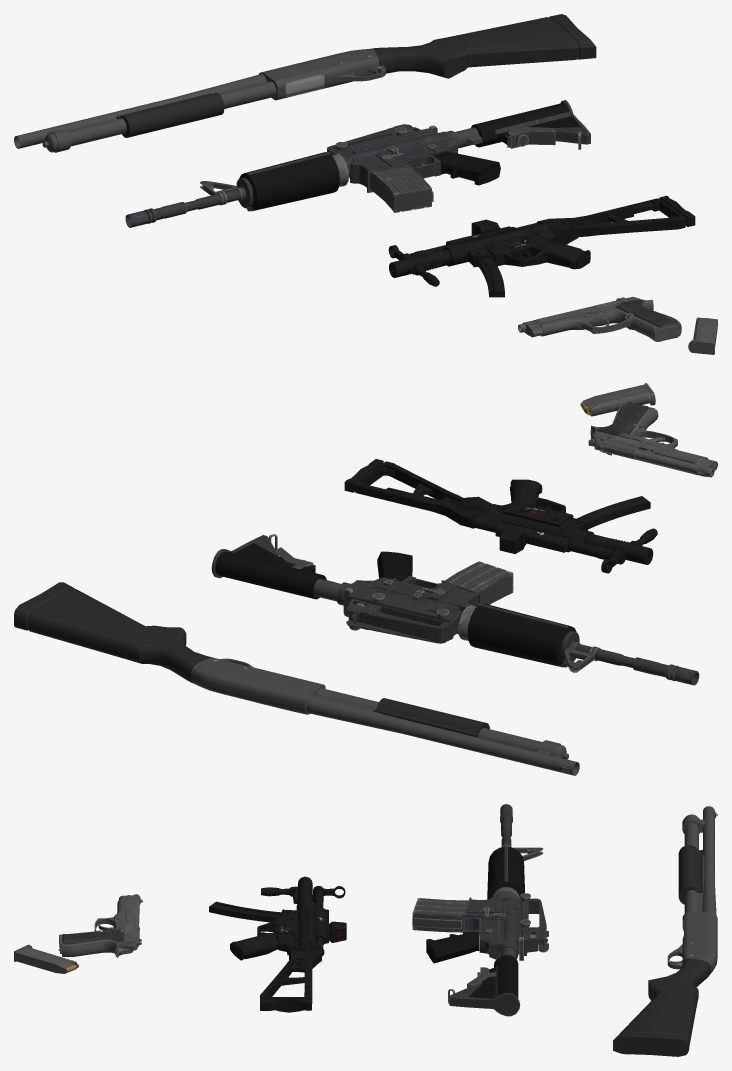
Rendered from pack_001.obj.
The picture shows the model from 3 angles, top to bottom: view 1: azimuth 30°, elevation 25°; view 2: azimuth 150°, elevation 25°; view 3: azimuth 270°, elevation 25°; orthographic projection. The views are drawn at different scales.
Visible parts, largest first — view 1: M-4, Remington_870, HK_m5, Remington_870_02, Beretta_M9; view 2: M-4, Remington_870, HK_m5, Remington_870_02, Beretta_M9; view 3: M-4, HK_m5, Remington_870, Beretta_M9, Remington_870_02.
Part boxes in pixels (x1,y1,x2,y2): M-4: [125, 100, 590, 227]; Remington_870: [259, 14, 596, 100]; HK_m5: [388, 195, 695, 297]; Remington_870_02: [14, 74, 276, 152]; Beretta_M9: [518, 296, 717, 354]; M-4: [211, 534, 699, 685]; Remington_870: [14, 582, 325, 714]; HK_m5: [344, 459, 657, 573]; Remington_870_02: [305, 688, 579, 775]; Beretta_M9: [580, 383, 717, 477]; M-4: [412, 804, 548, 1016]; HK_m5: [209, 876, 346, 1012]; Remington_870: [613, 912, 717, 1056]; Beretta_M9: [14, 894, 142, 973]; Remington_870_02: [678, 806, 717, 915].
Bounding box in the file's own units: 0.9391 × 0.0679 × 1.18.
